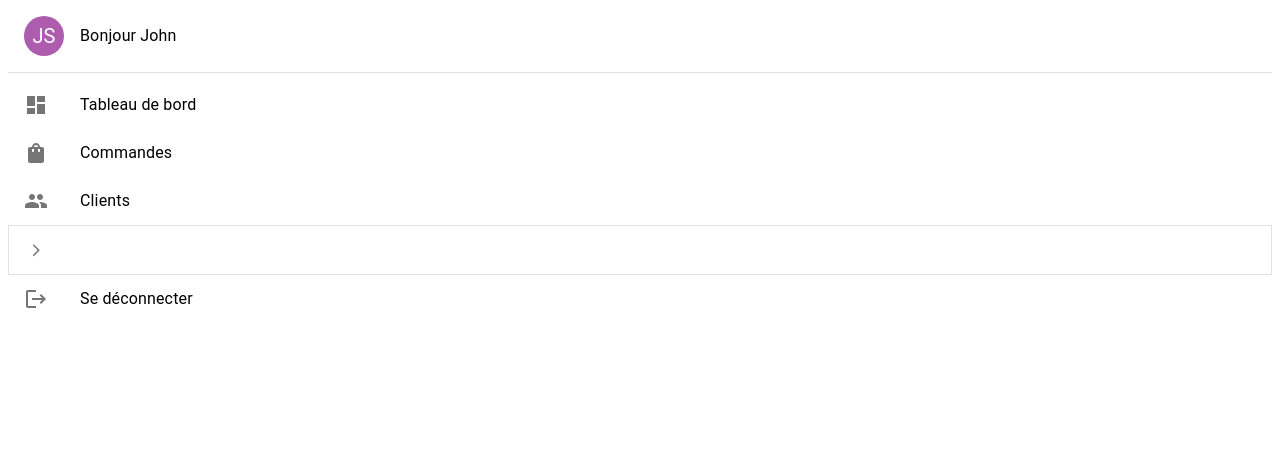
Test: ListMenu › Should render with the expected content when you open and close an accordion
The image size is (1280, 454).
Step 1. Click the 5th button → (36, 250), box [9,226,1271,274]
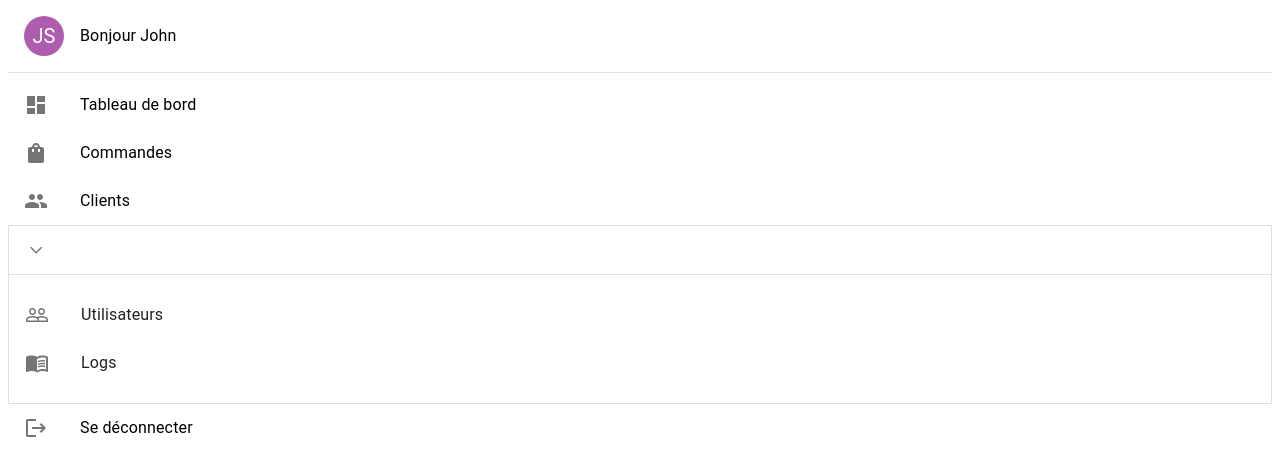
Check: the number of buttons is 8
